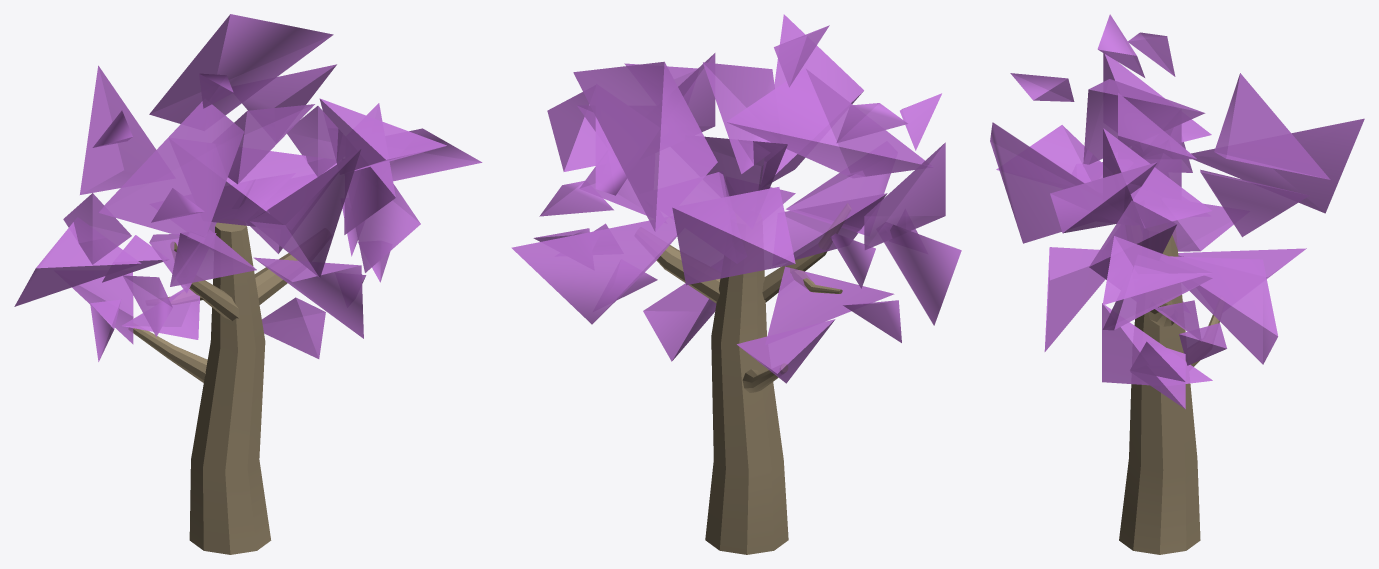
The model's file is Pink_Triangle_Tree.fbx.
3 views of the same model, side by side, from view 1: azimuth 30°, elevation 25°; view 2: azimuth 150°, elevation 25°; view 3: azimuth 270°, elevation 25° (orthographic). The views are drawn at different scales.
Parts seen in each view (by area): view 1: pCylinder7, pCube10, pCube13, pCube24, pCube14, pCube6, pCube17, pCube9, pCube3, pCube7, pCube27, pCube4 (+15 smaller); view 2: pCylinder7, pCube13, pCube10, pCube14, pCube15, pCube16, pCube12, pCube17, pCube7, pCube11, pCube2, pCube6 (+14 smaller); view 3: pCylinder7, pCube15, pCube24, pCube13, pCube14, pCube10, pCube9, pCube26, pCube8, pCube3, pCube23, pCube2 (+15 smaller).
Boxes of the visible parts, left/top/right/bottom form: pCylinder7: left=129, top=222, right=298, bottom=554; pCube10: left=98, top=101, right=244, bottom=242; pCube13: left=149, top=14, right=333, bottom=123; pCube24: left=250, top=149, right=361, bottom=277; pCube14: left=80, top=65, right=156, bottom=194; pCube6: left=211, top=151, right=336, bottom=226; pCube17: left=14, top=217, right=141, bottom=306; pCube9: left=319, top=98, right=446, bottom=170; pCube3: left=253, top=257, right=363, bottom=338; pCube7: left=228, top=104, right=314, bottom=184; pCube27: left=170, top=229, right=256, bottom=286; pCube4: left=355, top=184, right=420, bottom=272; pCylinder7: left=656, top=203, right=850, bottom=554; pCube13: left=573, top=61, right=717, bottom=231; pCube10: left=726, top=68, right=931, bottom=177; pCube14: left=672, top=187, right=795, bottom=285; pCube15: left=511, top=217, right=677, bottom=324; pCube16: left=864, top=142, right=945, bottom=250; pCube12: left=767, top=266, right=894, bottom=336; pCube17: left=882, top=222, right=961, bottom=325; pCube7: left=703, top=62, right=774, bottom=173; pCube11: left=784, top=193, right=887, bottom=259; pCube2: left=643, top=283, right=716, bottom=361; pCube6: left=704, top=136, right=787, bottom=196; pCylinder7: left=1119, top=228, right=1219, bottom=554; pCube15: left=1169, top=256, right=1278, bottom=364; pCube24: left=990, top=122, right=1084, bottom=243; pCube13: left=1214, top=73, right=1330, bottom=179; pCube14: left=1191, top=118, right=1364, bottom=213; pCube10: left=1083, top=79, right=1205, bottom=166; pCube9: left=1050, top=162, right=1157, bottom=233; pCube26: left=1102, top=236, right=1212, bottom=304; pCube8: left=1103, top=128, right=1211, bottom=227; pCube3: left=1044, top=247, right=1105, bottom=351; pCube23: left=1200, top=169, right=1309, bottom=237; pCube2: left=1102, top=303, right=1212, bottom=385.
Bounding box in the file's own units: 6.19 × 6.88 × 4.71.
